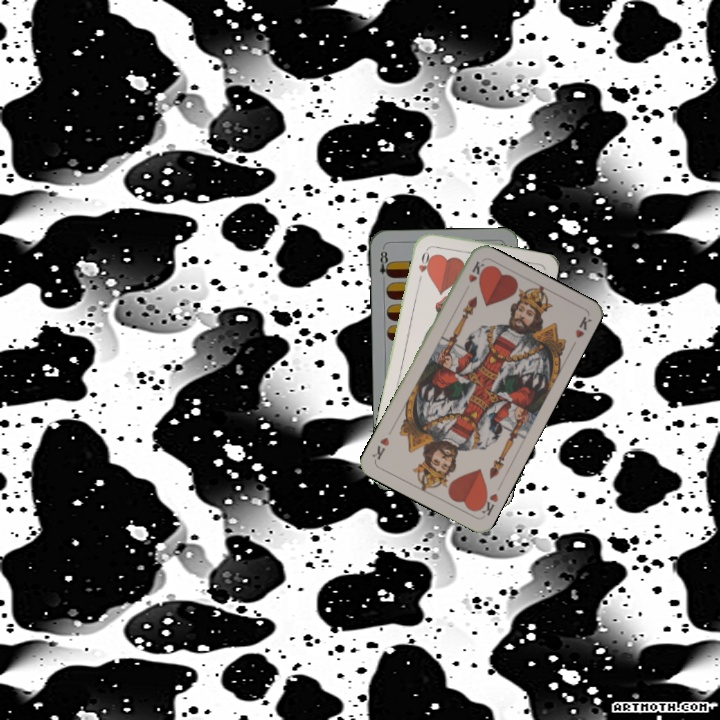E8: (376, 245, 393, 285)
HK: (474, 487, 501, 518), (464, 257, 487, 285)
HO: (414, 244, 433, 284)
